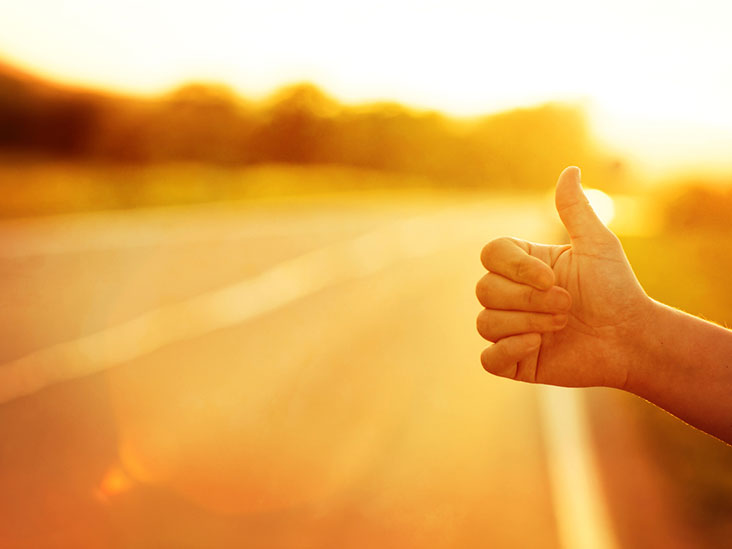finger: (472, 234, 574, 287), (473, 271, 585, 310), (466, 333, 566, 373), (472, 304, 582, 338)
